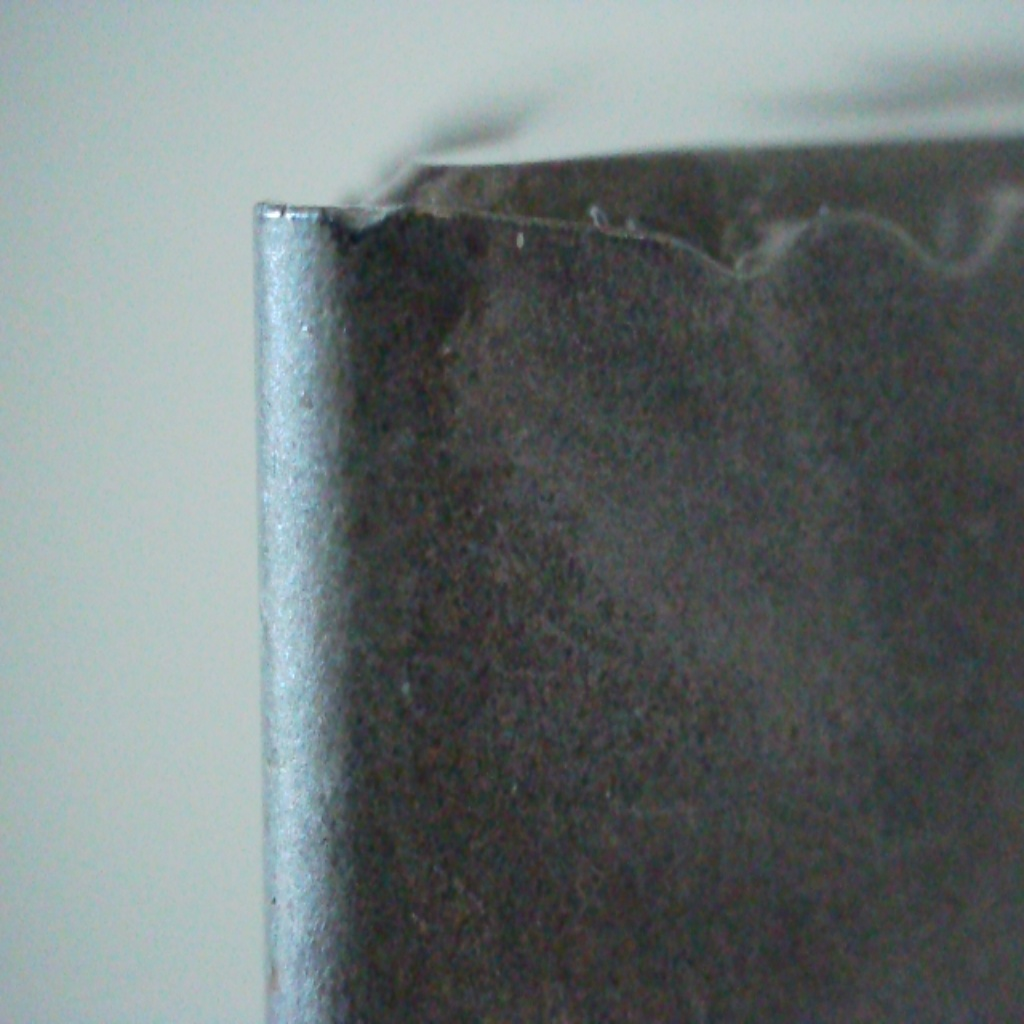flank_wear: (310, 196, 405, 248)
